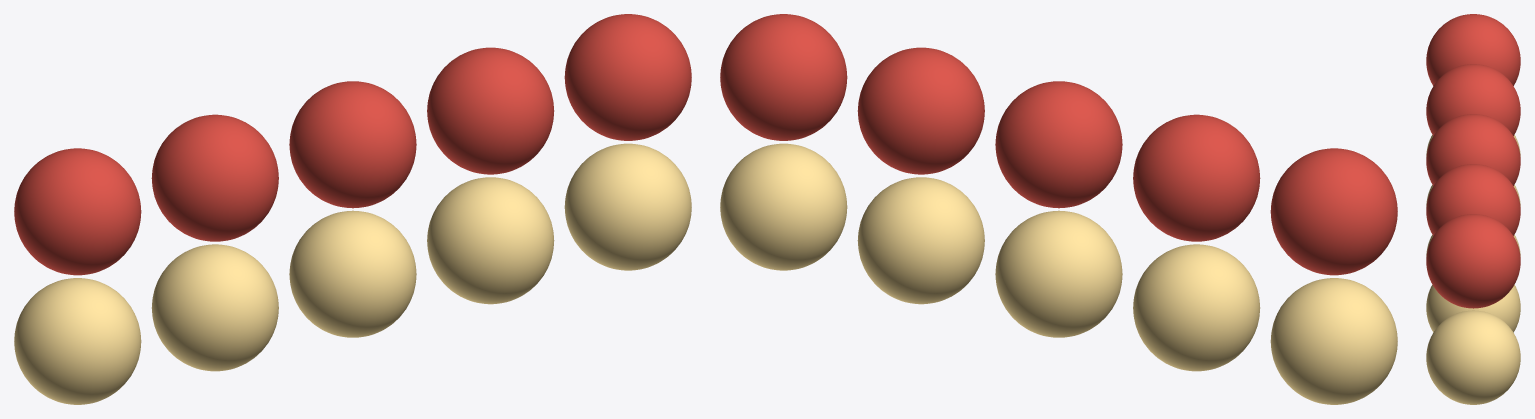
File: material_spheres.glb
3 renders of one model, left to right at view 1: azimuth 30°, elevation 25°; view 2: azimuth 150°, elevation 25°; view 3: azimuth 270°, elevation 25°, orthographic. The views are drawn at different scales.
Parts seen in each view (by area): view 1: Dielectric0, Metal4, Dielectric2, Metal2, Dielectric3, Metal1, Dielectric1, Metal3, Dielectric4, Metal0; view 2: Dielectric0, Metal4, Dielectric2, Metal2, Dielectric3, Metal1, Dielectric1, Metal3, Dielectric4, Metal0; view 3: Dielectric4, Metal4, Dielectric0, Dielectric1, Dielectric2, Dielectric3, Metal3.
Part boxes in pixels (<box>): Dielectric0: <box>14,148,141,275</box>; Metal4: <box>564,143,691,270</box>; Dielectric2: <box>289,81,416,208</box>; Metal2: <box>289,210,416,337</box>; Dielectric3: <box>427,47,554,174</box>; Metal1: <box>151,244,278,371</box>; Dielectric1: <box>151,114,278,241</box>; Metal3: <box>427,177,554,304</box>; Dielectric4: <box>564,14,691,140</box>; Metal0: <box>14,278,141,404</box>; Dielectric0: <box>1270,148,1397,275</box>; Metal4: <box>720,143,847,270</box>; Dielectric2: <box>995,81,1122,208</box>; Metal2: <box>995,210,1122,337</box>; Dielectric3: <box>857,47,984,174</box>; Metal1: <box>1133,244,1260,371</box>; Dielectric1: <box>1133,114,1260,241</box>; Metal3: <box>857,177,984,304</box>; Dielectric4: <box>720,14,847,140</box>; Metal0: <box>1270,278,1397,404</box>; Dielectric4: <box>1426,214,1520,308</box>; Metal4: <box>1426,310,1520,404</box>; Dielectric0: <box>1426,14,1520,85</box>; Dielectric1: <box>1426,64,1520,135</box>; Dielectric2: <box>1426,114,1520,185</box>; Dielectric3: <box>1426,164,1520,235</box>; Metal3: <box>1426,285,1520,332</box>.
Size of the model in its own units: 4.8 by 1.7 by 0.8.
